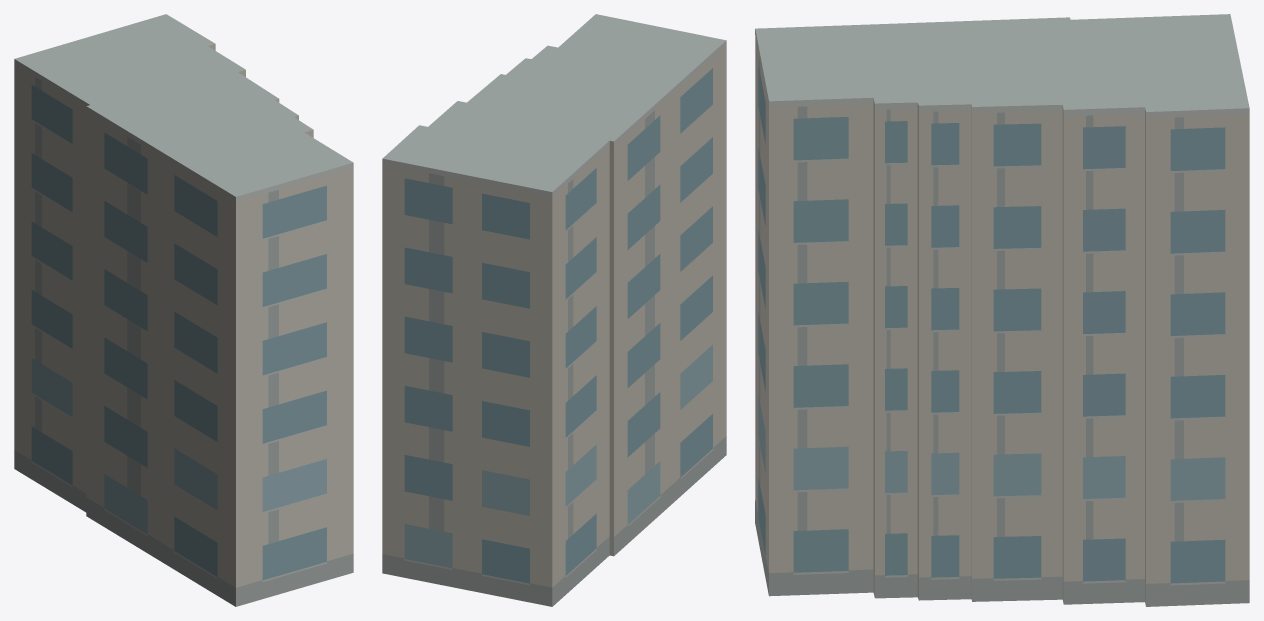
File: survey-upis-32903319.glb
3 views of the same model, side by side, from view 1: azimuth 30°, elevation 25°; view 2: azimuth 150°, elevation 25°; view 3: azimuth 270°, elevation 25° (orthographic). The views are drawn at different scales.
Visible parts, largest first — view 1: survey-upis-32903319.tmp; view 2: survey-upis-32903319.tmp; view 3: survey-upis-32903319.tmp.
Part boxes in pixels (left/top/right/bottom): survey-upis-32903319.tmp: left=14, top=14, right=353, bottom=606; survey-upis-32903319.tmp: left=382, top=14, right=726, bottom=606; survey-upis-32903319.tmp: left=755, top=14, right=1249, bottom=606.
Bounding box in the file's own units: 8 × 18.79 × 17.03.
